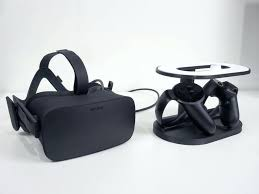oculus: (16, 81, 136, 164)
